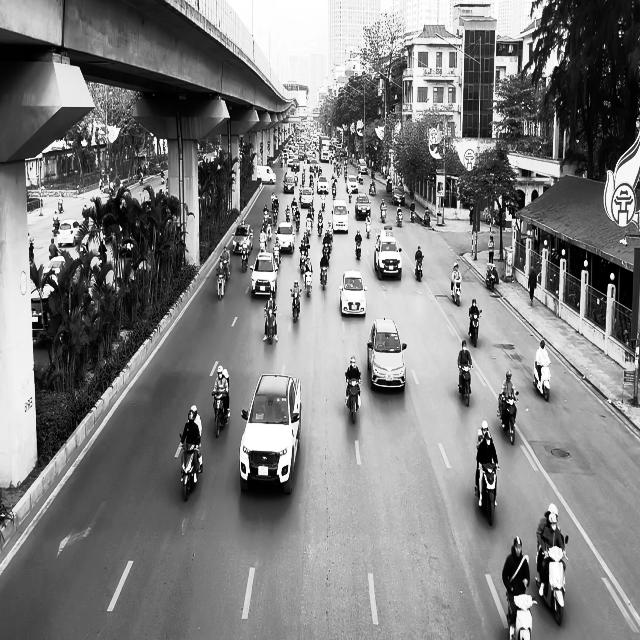bus: (320, 135, 330, 162)
car: (239, 374, 302, 494), (367, 317, 407, 392), (339, 270, 368, 316), (374, 234, 402, 280), (250, 252, 278, 298), (57, 219, 82, 247), (232, 224, 254, 254), (275, 222, 295, 253), (332, 199, 349, 233), (355, 193, 371, 220), (258, 165, 276, 184), (300, 187, 314, 208), (392, 186, 406, 206), (283, 174, 295, 193), (317, 175, 329, 194)
motorbike: (536, 534, 569, 625), (506, 588, 538, 640), (179, 434, 202, 501), (477, 462, 500, 526), (498, 390, 520, 444), (345, 373, 362, 424), (212, 391, 230, 437), (533, 359, 551, 401), (458, 362, 473, 407), (263, 305, 278, 344), (469, 310, 482, 348), (291, 288, 302, 322), (216, 268, 226, 300), (486, 264, 497, 291), (451, 279, 461, 306), (320, 261, 329, 290), (415, 255, 424, 281), (241, 245, 250, 271), (356, 238, 362, 260), (396, 210, 403, 227), (366, 220, 371, 238)
